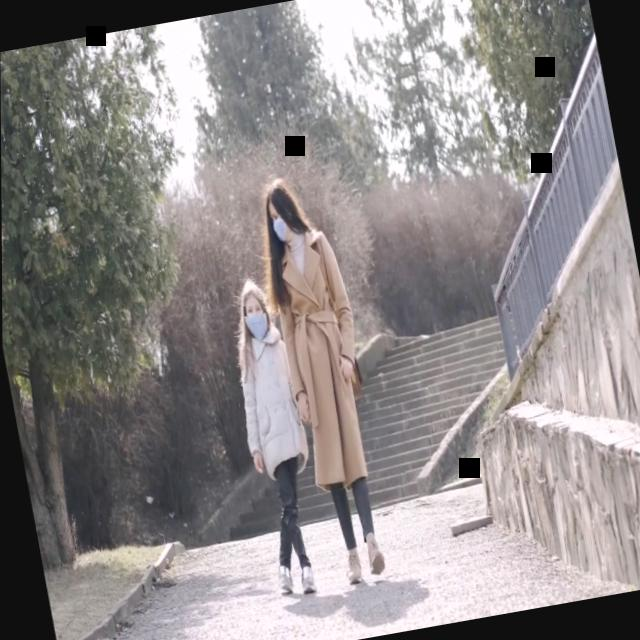Mask: (242, 298, 272, 344), (267, 206, 291, 243)
